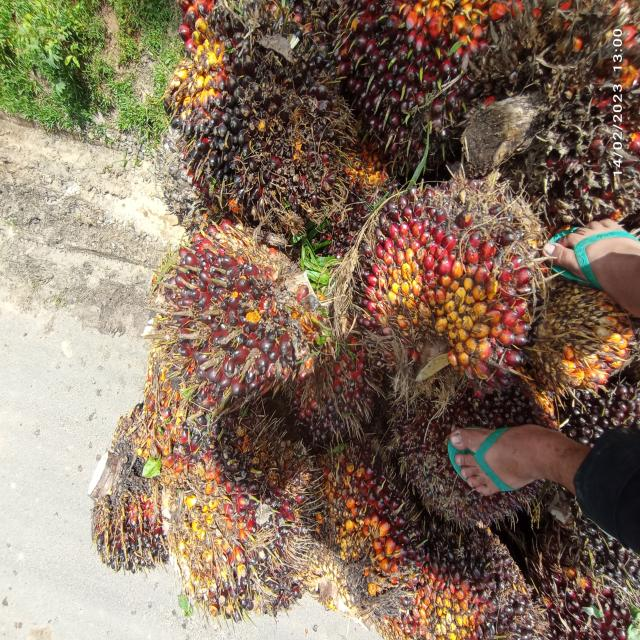fraksi 00: (174, 72, 370, 240)
fraksi 1: (355, 158, 543, 390), (148, 219, 333, 421), (342, 0, 542, 169), (157, 412, 324, 614), (306, 437, 428, 612), (389, 519, 507, 640)
